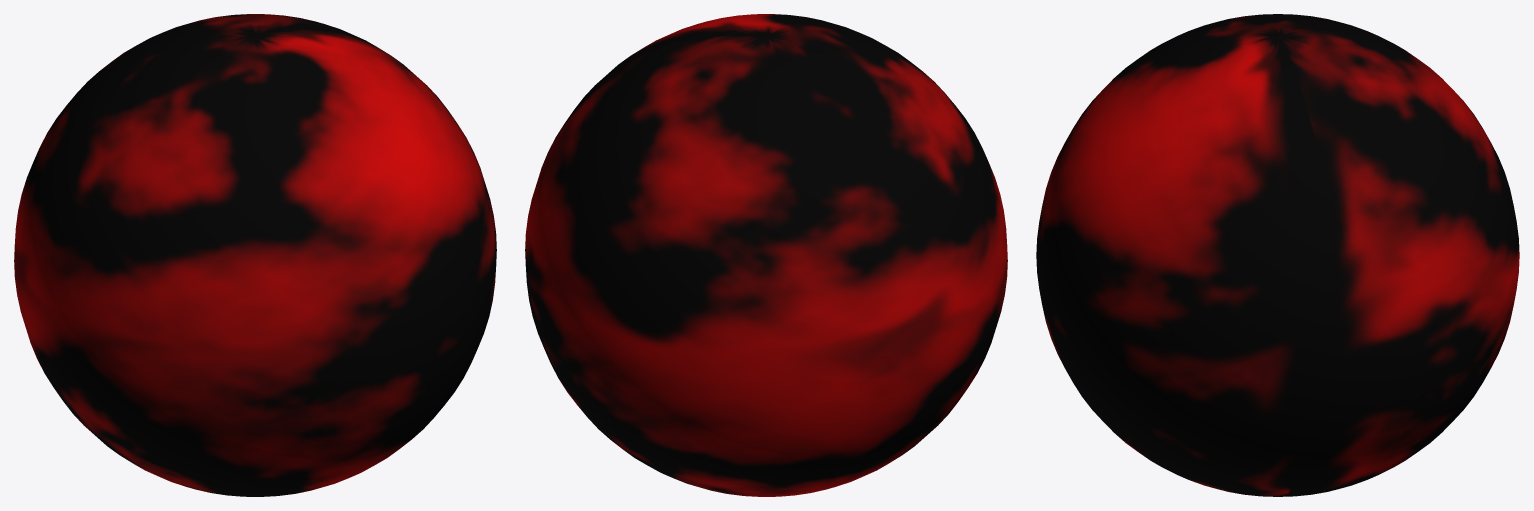
File: Ball.obj
The picture shows the model from 3 angles, left to right: view 1: azimuth 30°, elevation 25°; view 2: azimuth 150°, elevation 25°; view 3: azimuth 270°, elevation 25°; orthographic projection.
Parts seen in each view (by area): view 1: pSphere1; view 2: pSphere1; view 3: pSphere1.
Boxes of the visible parts, x1,y1,x2,y2 form: pSphere1: (14,14,496,496); pSphere1: (525,14,1007,496); pSphere1: (1036,14,1519,496).
Size of the model in its own units: 2 by 2 by 2.
Materials: 1 (1 with a texture image).
